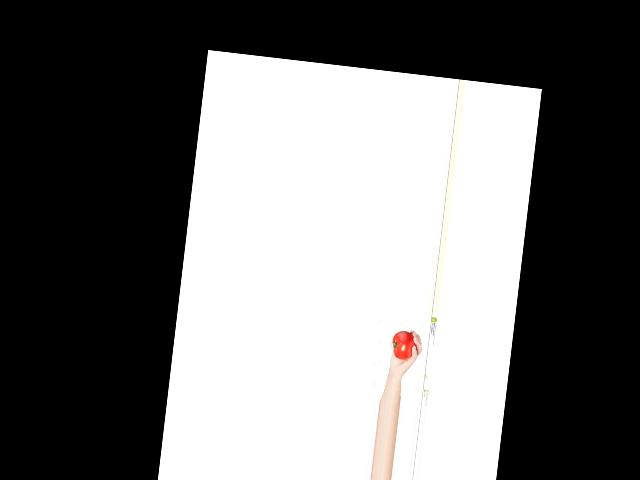tomato: (390, 330, 417, 361)
